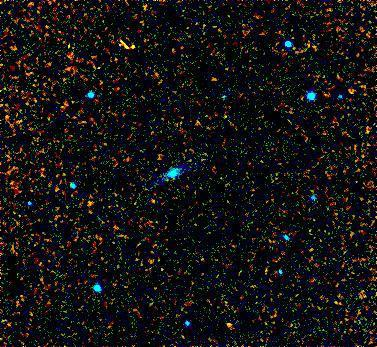star: (216, 313, 246, 343)
